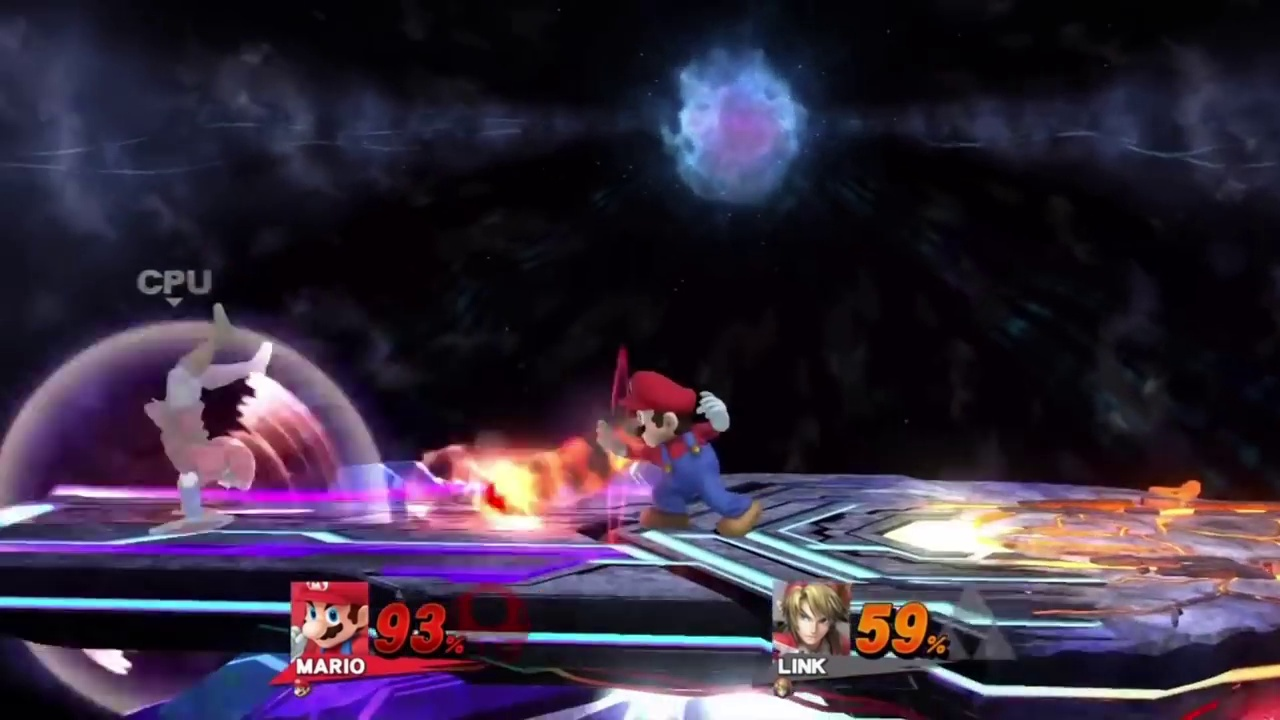Mario: (598, 373, 765, 536)
